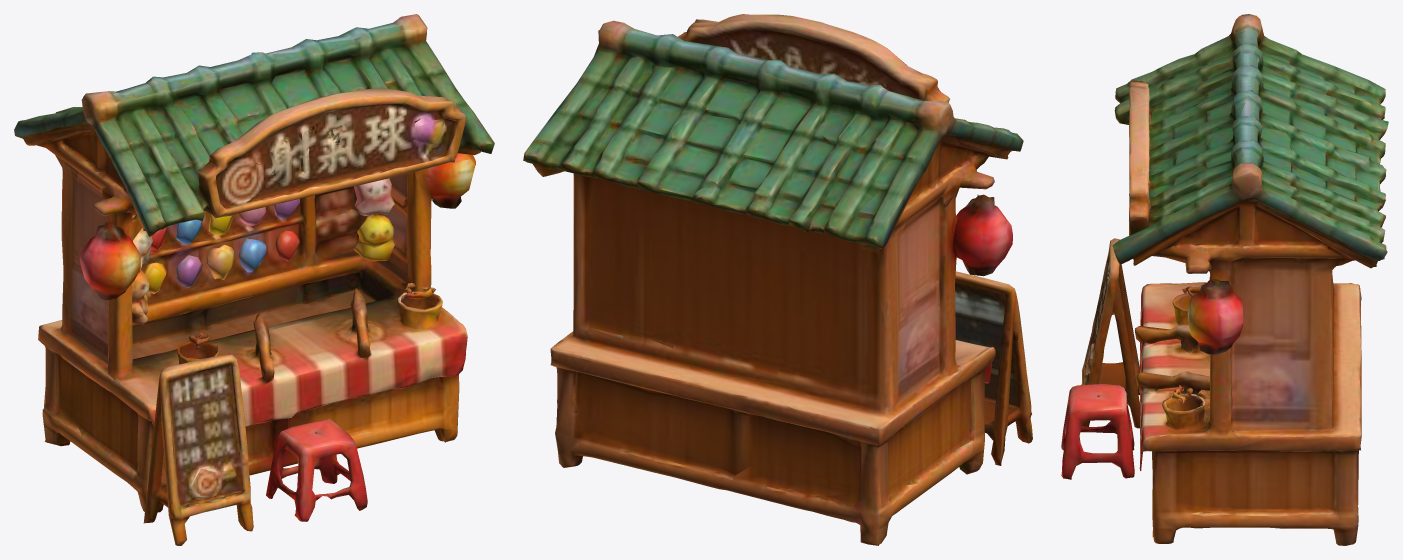
Rendered from stall-balloon-lite.glb.
3 views of the same model, side by side, from view 1: azimuth 30°, elevation 25°; view 2: azimuth 150°, elevation 25°; view 3: azimuth 270°, elevation 25° (orthographic). The views are drawn at different scales.
Parts seen in each view (by area): view 1: tripo_node_61a85226-ef43-4415-8bb6-38802fa605db; view 2: tripo_node_61a85226-ef43-4415-8bb6-38802fa605db; view 3: tripo_node_61a85226-ef43-4415-8bb6-38802fa605db.
Part boxes in pixels (x1=…): tripo_node_61a85226-ef43-4415-8bb6-38802fa605db: x1=14, y1=14, x2=494, y2=545; tripo_node_61a85226-ef43-4415-8bb6-38802fa605db: x1=523, y1=14, x2=1032, y2=545; tripo_node_61a85226-ef43-4415-8bb6-38802fa605db: x1=1061, y1=14, x2=1388, y2=545.
Size of the model in its own units: 0.9861 by 0.9276 by 0.72.
1 material, 1 textured.
